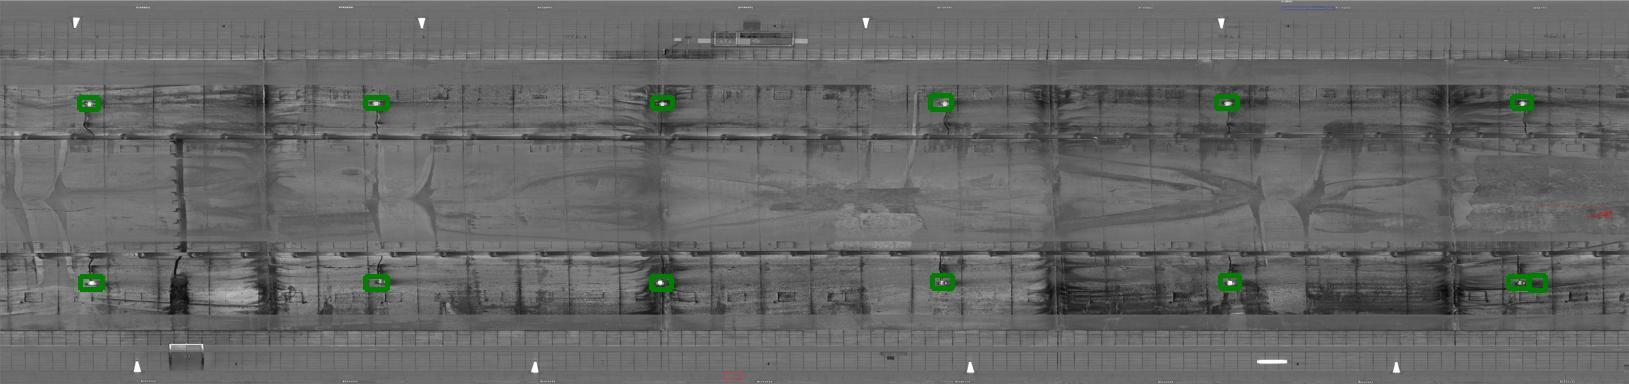light: (933, 275, 953, 292), (79, 97, 97, 111), (1222, 277, 1240, 291), (1513, 95, 1531, 109), (1510, 276, 1527, 290), (936, 97, 953, 110), (82, 278, 100, 290), (368, 97, 383, 109), (652, 276, 667, 289), (373, 275, 388, 286), (1221, 99, 1236, 109), (656, 98, 669, 109)
